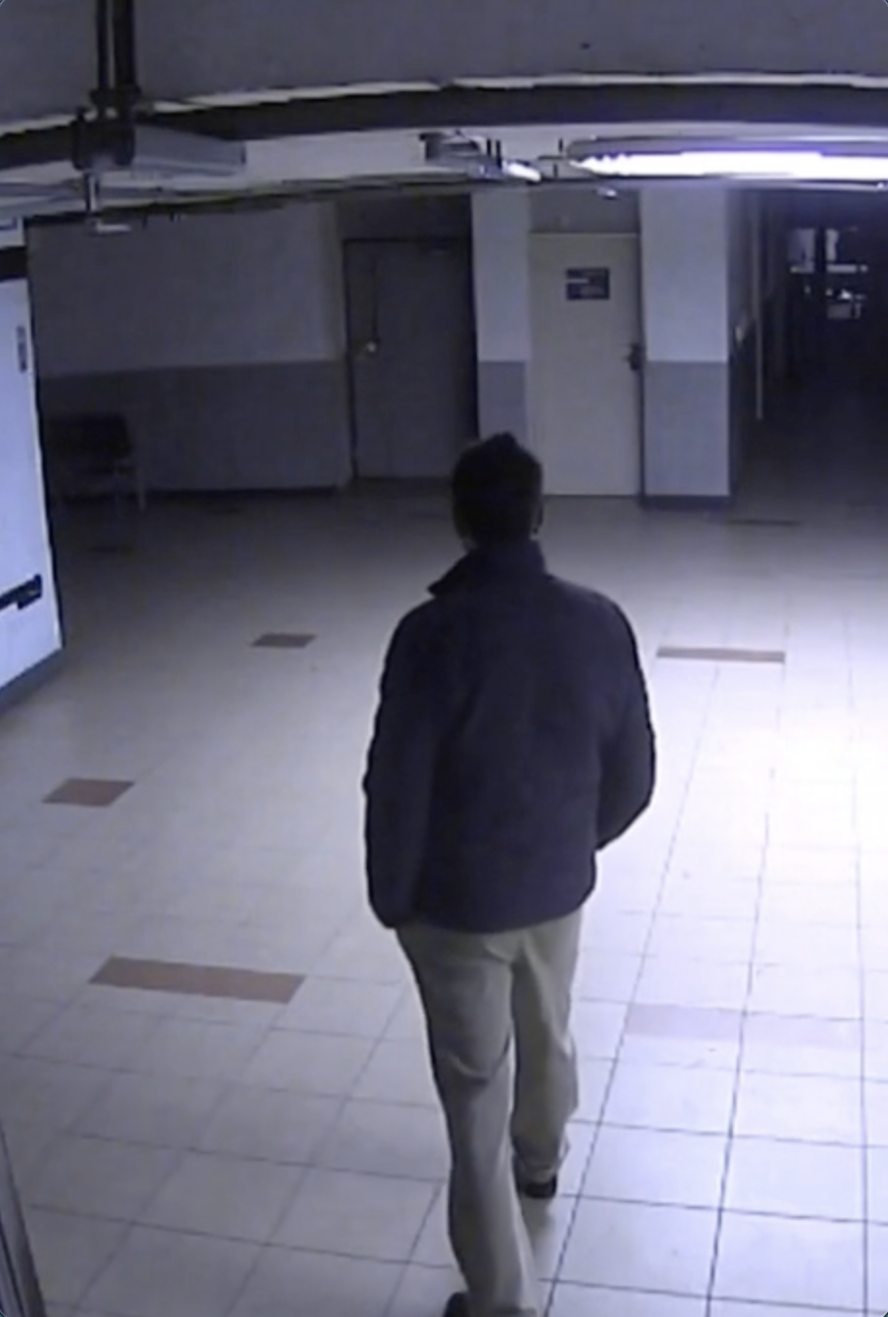Heavy Gun: (363, 436, 671, 1317)
